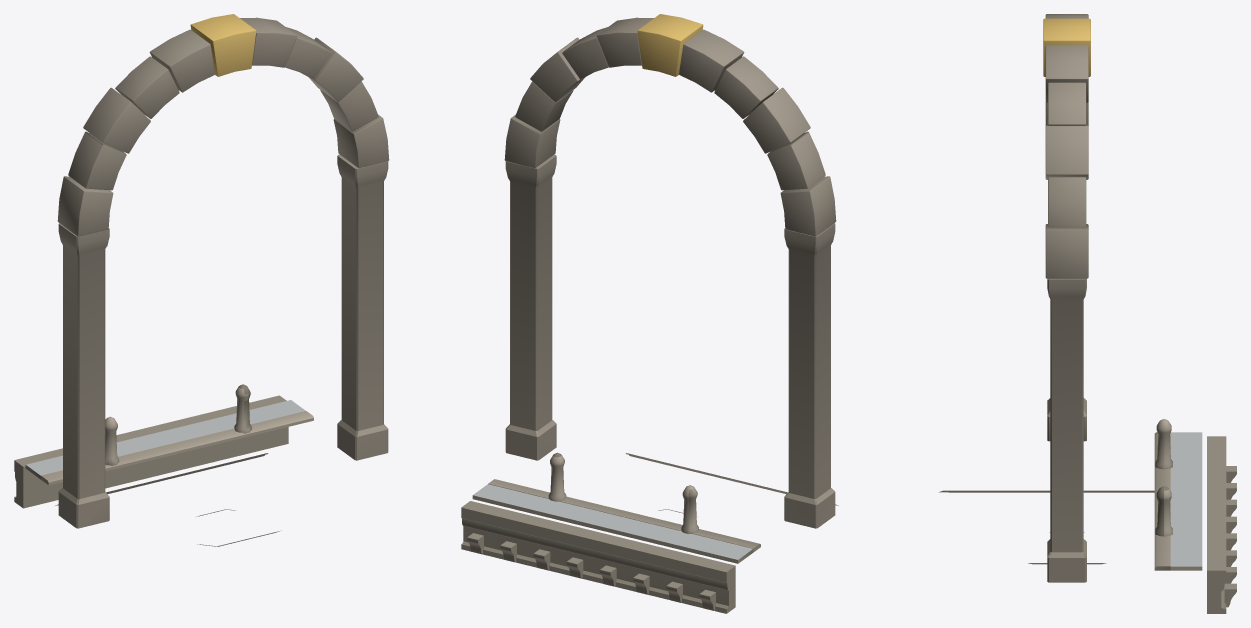
The model's file is street.glb.
The picture shows the model from 3 angles, left to right: view 1: azimuth 30°, elevation 25°; view 2: azimuth 150°, elevation 25°; view 3: azimuth 270°, elevation 25°; orthographic projection. The views are drawn at different scales.
Visible parts, largest first — view 1: street_arch_piers, street_arch_ring, street_side, street_edge, street_soffit; view 2: street_arch_piers, street_arch_ring, street_edge, street_side, street_brackets; view 3: street_arch_ring, street_arch_piers, street_side, street_edge, street_brackets, street_soffit.
Boxes of the visible parts, x1,y1,x2,y2 form: street_arch_piers: [58, 154, 388, 528]; street_arch_ring: [57, 14, 389, 236]; street_side: [25, 384, 313, 485]; street_edge: [14, 395, 288, 508]; street_soffit: [55, 453, 279, 546]; street_arch_piers: [505, 154, 835, 528]; street_arch_ring: [504, 14, 836, 236]; street_edge: [461, 501, 735, 613]; street_side: [472, 452, 760, 563]; street_brackets: [467, 533, 715, 610]; street_arch_ring: [1043, 14, 1090, 278]; street_arch_piers: [1047, 278, 1086, 582]; street_side: [1154, 419, 1202, 570]; street_edge: [1207, 436, 1226, 613]; street_brackets: [1224, 466, 1236, 607]; street_soffit: [939, 490, 1154, 564].
Bounding box in the file's own units: 4.7 × 7.2 × 4.13.
